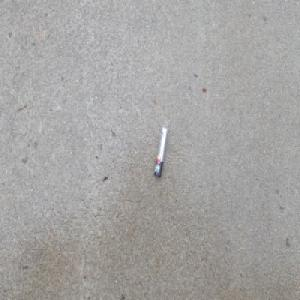Battery: (154, 125, 168, 179)
